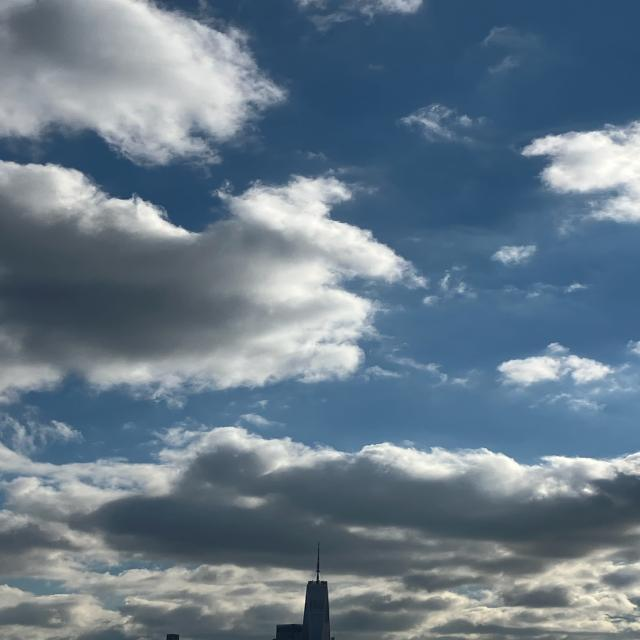WTC: (301, 543, 333, 640)
